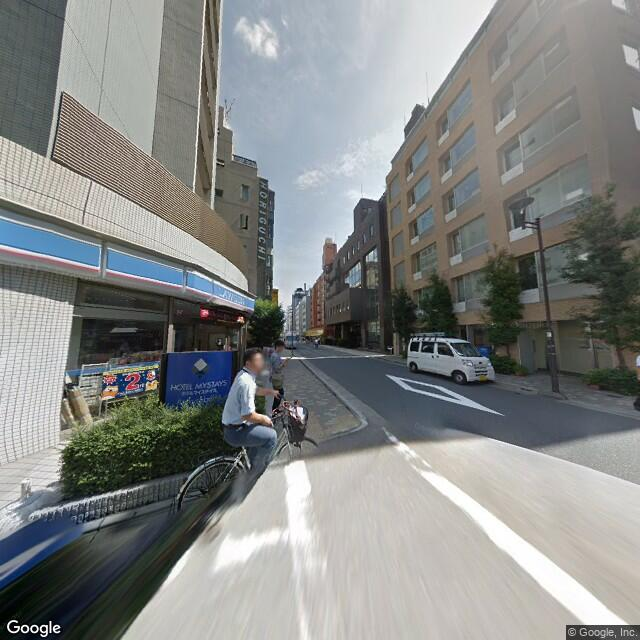lawson: (1, 211, 258, 312)
